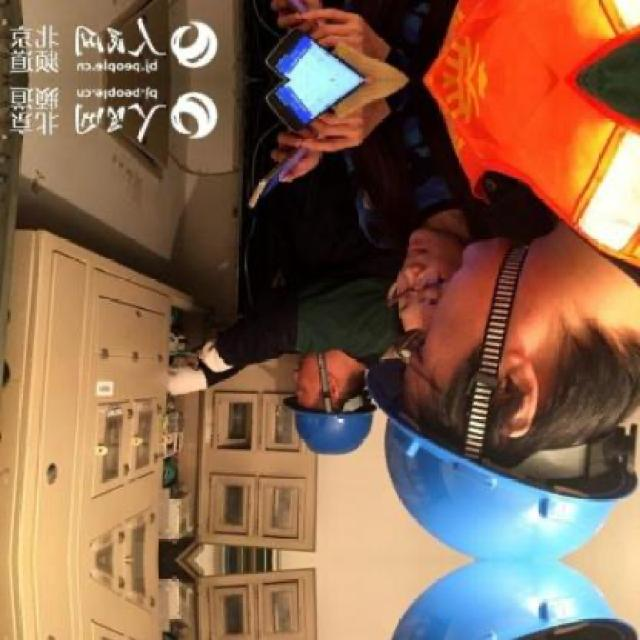con casco: (441, 280, 640, 570), (263, 324, 378, 471)
